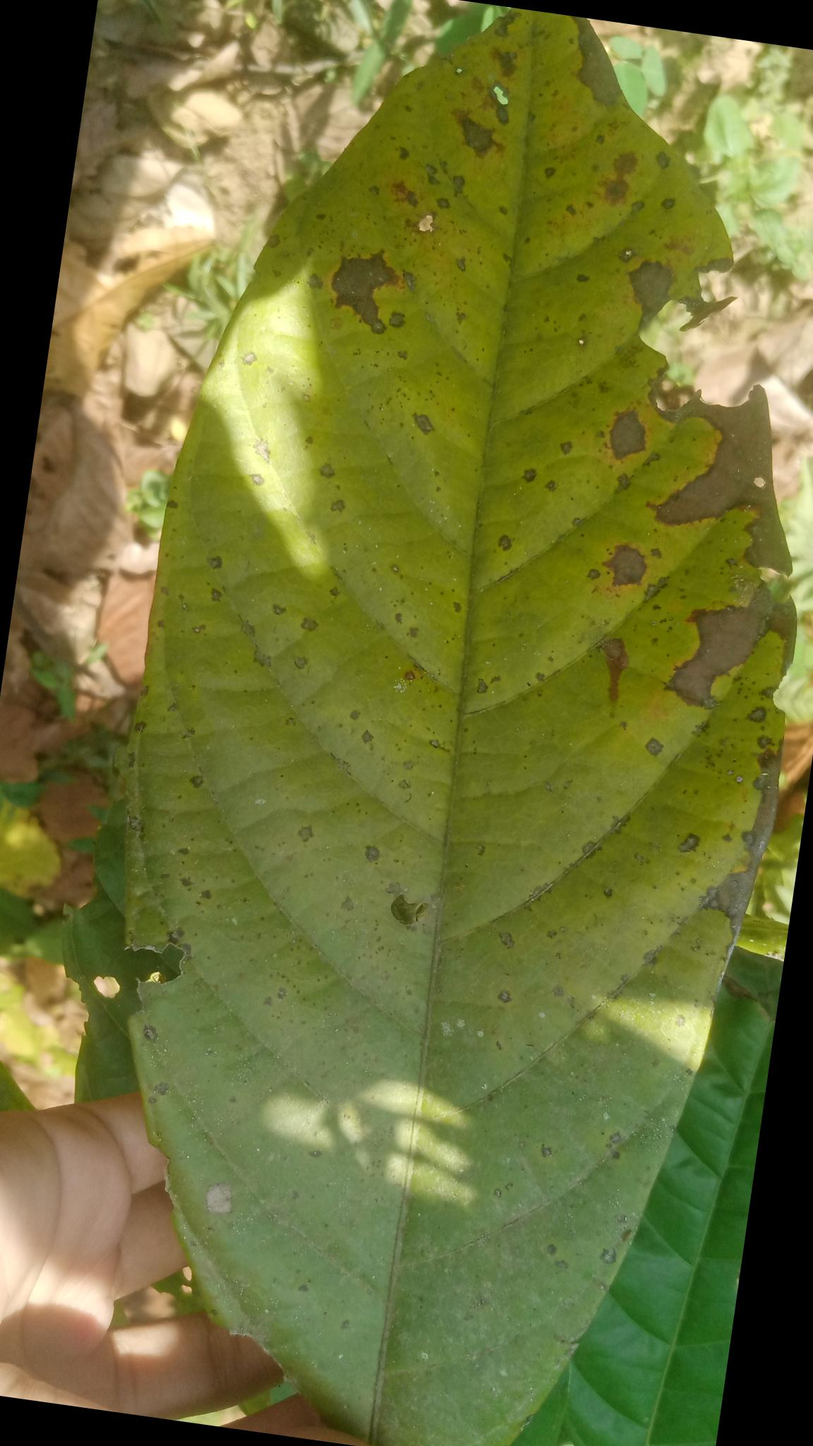Fosforo: (129, 7, 800, 1446)
